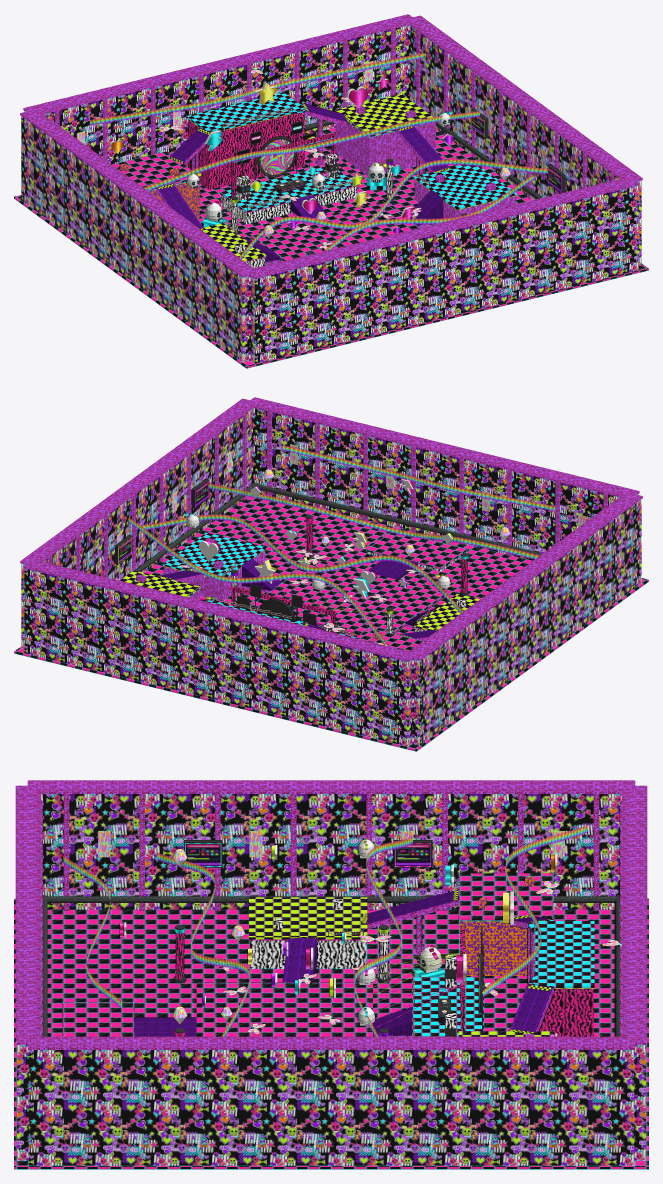
The model's file is level_mobile.glb.
The picture shows the model from 3 angles, top to bottom: view 1: azimuth 30°, elevation 25°; view 2: azimuth 150°, elevation 25°; view 3: azimuth 270°, elevation 25°; orthographic projection. The views are drawn at different scales.
Visible parts, largest first — view 1: M_wall_0_0, M_structure_b_0_0, M_deck_0_0, M_deck_cyan_0_0, FX_Rainbows_Flow, M_zebra_pink_0_0, M_grate_0_0, M_deck_green_0_0, M_structure_0_0, M_jet_black_0_0, M_frame_0_0, M_ink_0_0 (+6 smaller); view 2: M_wall_0_0, M_structure_b_0_0, M_deck_0_0, FX_Rainbows_Flow, M_deck_cyan_0_0, M_pipe_0_0, M_deck_green_0_0, M_grate_0_0, M_zebra_pink_0_0, M_jet_black_0_0, M_frame_0_0, M_accent_0_0 (+1 smaller); view 3: M_wall_0_0, M_deck_0_0, M_structure_b_0_0, M_deck_cyan_0_0, M_grate_0_0, M_deck_green_0_0, FX_Rainbows_Flow, M_pipe_0_0, M_leopard_orange_0_0, M_structure_0_0, M_zebra_pink_0_0, M_glitch_0_0 (+4 smaller).
Part boxes in pixels (x1=…): M_wall_0_0: x1=21, y1=25, x2=641, y2=363; M_structure_b_0_0: x1=20, y1=14, x2=642, y2=279; M_deck_0_0: x1=14, y1=128, x2=648, y2=368; M_deck_cyan_0_0: x1=186, y1=92, x2=517, y2=227; FX_Rainbows_Flow: x1=89, y1=53, x2=548, y2=259; M_zebra_pink_0_0: x1=187, y1=112, x2=335, y2=261; M_grate_0_0: x1=157, y1=103, x2=449, y2=261; M_deck_green_0_0: x1=202, y1=93, x2=433, y2=261; M_structure_0_0: x1=220, y1=153, x2=392, y2=267; M_jet_black_0_0: x1=217, y1=108, x2=564, y2=232; M_frame_0_0: x1=191, y1=108, x2=467, y2=254; M_ink_0_0: x1=59, y1=102, x2=565, y2=262; M_wall_0_0: x1=21, y1=408, x2=641, y2=746; M_structure_b_0_0: x1=20, y1=397, x2=642, y2=662; M_deck_0_0: x1=14, y1=496, x2=648, y2=751; FX_Rainbows_Flow: x1=128, y1=445, x2=555, y2=644; M_deck_cyan_0_0: x1=162, y1=532, x2=356, y2=637; M_pipe_0_0: x1=135, y1=482, x2=542, y2=571; M_deck_green_0_0: x1=119, y1=570, x2=479, y2=630; M_grate_0_0: x1=157, y1=558, x2=439, y2=638; M_zebra_pink_0_0: x1=231, y1=521, x2=467, y2=636; M_jet_black_0_0: x1=115, y1=479, x2=467, y2=633; M_frame_0_0: x1=221, y1=515, x2=468, y2=637; M_accent_0_0: x1=117, y1=444, x2=585, y2=543; M_wall_0_0: x1=17, y1=794, x2=645, y2=1165; M_deck_0_0: x1=14, y1=873, x2=648, y2=1169; M_structure_b_0_0: x1=15, y1=780, x2=647, y2=1049; M_deck_cyan_0_0: x1=412, y1=920, x2=594, y2=1036; M_grate_0_0: x1=134, y1=889, x2=552, y2=1036; M_deck_green_0_0: x1=249, y1=897, x2=553, y2=1036; FX_Rainbows_Flow: x1=63, y1=825, x2=587, y2=1036; M_pipe_0_0: x1=43, y1=895, x2=619, y2=1036; M_leopard_orange_0_0: x1=459, y1=898, x2=527, y2=975; M_structure_0_0: x1=250, y1=918, x2=456, y2=1036; M_zebra_pink_0_0: x1=176, y1=928, x2=593, y2=1036; M_glitch_0_0: x1=186, y1=844, x2=430, y2=865.
Size of the model in its own units: 109 by 27.31 by 109.
35 materials, 25 textured.
